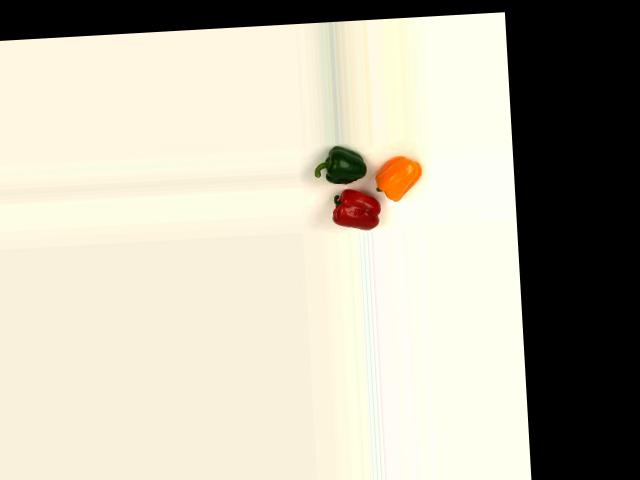bell_pepper: (311, 144, 368, 188)
